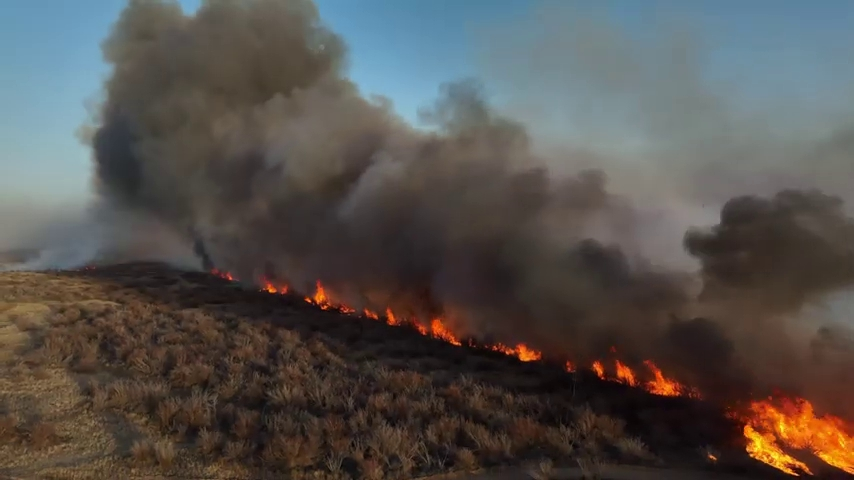forest_fire: (302, 281, 474, 345), (735, 396, 853, 474), (589, 359, 699, 396), (477, 342, 541, 360), (260, 279, 291, 293), (211, 270, 236, 279), (565, 360, 576, 369), (608, 362, 610, 363)
